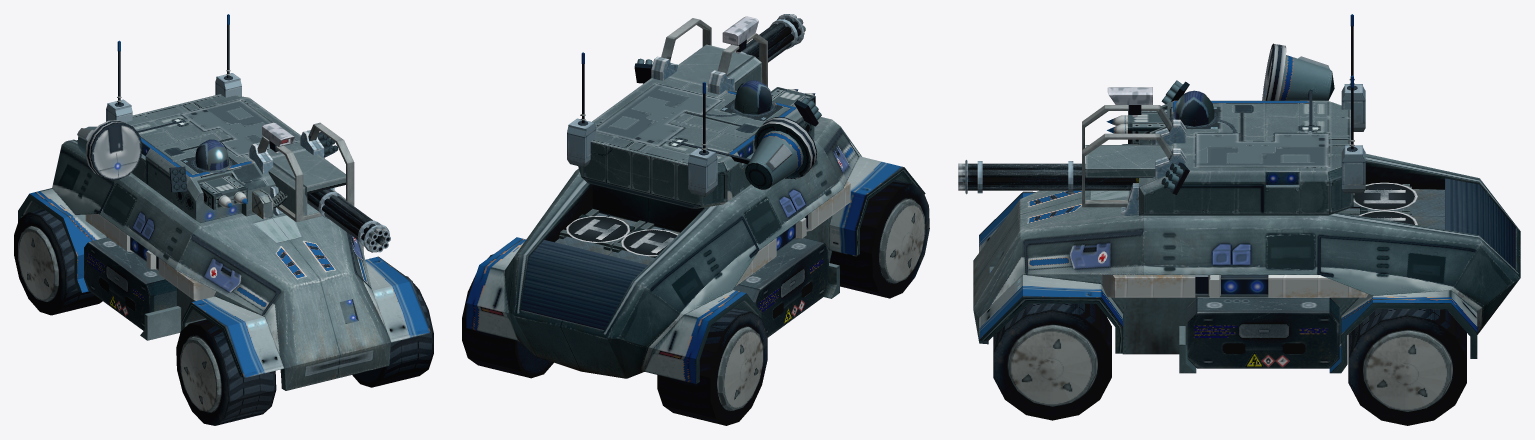
The model's file is blue_tank_02.FBX.
3 views of the same model, side by side, from view 1: azimuth 30°, elevation 25°; view 2: azimuth 150°, elevation 25°; view 3: azimuth 270°, elevation 25° (orthographic). The views are drawn at different scales.
Visible parts, largest first — view 1: Body, gun_body, gun001, Wheel_03, Wheel_04, Wheel_01; view 2: Body, gun_body, Wheel_04, Wheel_03, gun001, Wheel_02; view 3: Body, gun_body, Wheel_02, Wheel_01, gun001.
Part boxes in pixels (box(x1,y1,x2,y2)): Body: box(18, 139, 431, 390); gun_body: box(77, 14, 337, 222); gun001: box(257, 122, 390, 252); Wheel_03: box(176, 319, 276, 425); Wheel_04: box(14, 209, 102, 315); Wheel_01: box(352, 276, 433, 387); Body: box(466, 117, 925, 384); gun_body: box(567, 52, 821, 208); Wheel_04: box(657, 307, 767, 425); Wheel_03: box(829, 180, 929, 298); gun001: box(661, 14, 805, 90); Wheel_02: box(462, 254, 553, 378); Body: box(973, 153, 1520, 373); gun_body: box(1106, 14, 1365, 215); Wheel_02: box(1348, 309, 1466, 425); Wheel_01: box(993, 303, 1111, 420); gun001: box(958, 87, 1172, 207).
Size of the model in its own units: 11.24 by 12.31 by 19.81.
